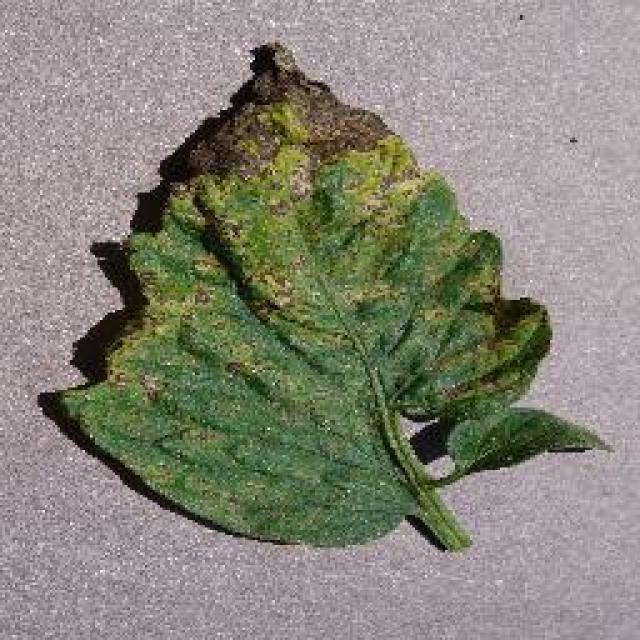Tomato___Septoria_leaf_spot: (58, 42, 590, 548)
